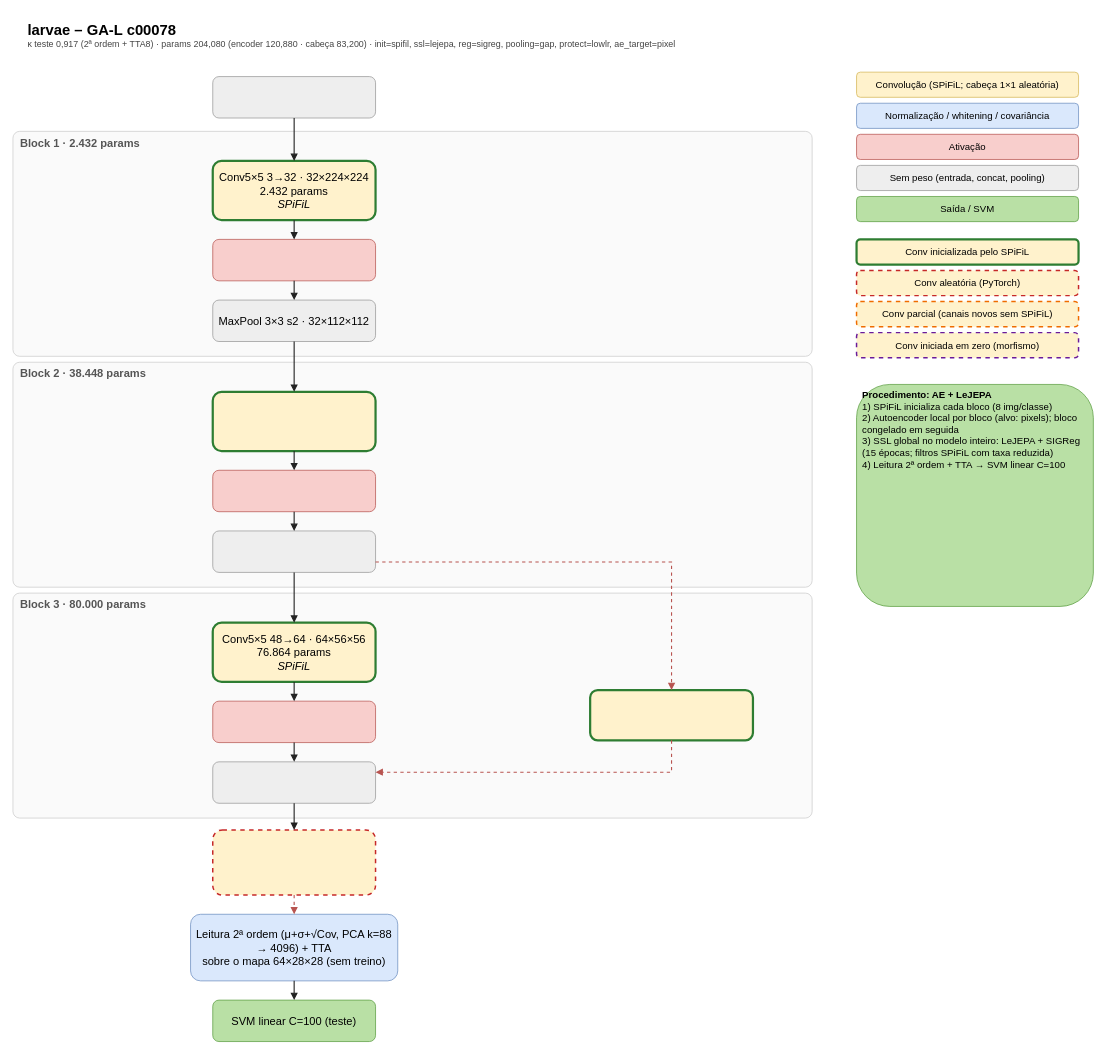
Image size: 1106x1055. Some labels were removed from this diagram. Each missing label, with the centre of its shape:
"Cabeça Conv1×1 64→1280 · 1280×28×28 83.200 params aleatória" goes at (294,862).
"Conv5×5 32→48 · 48×112×112 38.448 params SPiFiL" goes at (293,421).
"Entrada 3×224×224" goes at (294,97).
"MaxPool 3×3 s2 · 48×56×56" goes at (294,551).
"MaxPool 3×3 s2 · 64×28×28" goes at (294,782).
"ReLU · 32×224×224" goes at (294,260).
"ReLU · 48×112×112" goes at (294,491).
"ReLU · 64×56×56" goes at (294,721).
"Residual Conv1×1 48→64 64×56×56 SPiFiL" goes at (671,715).
